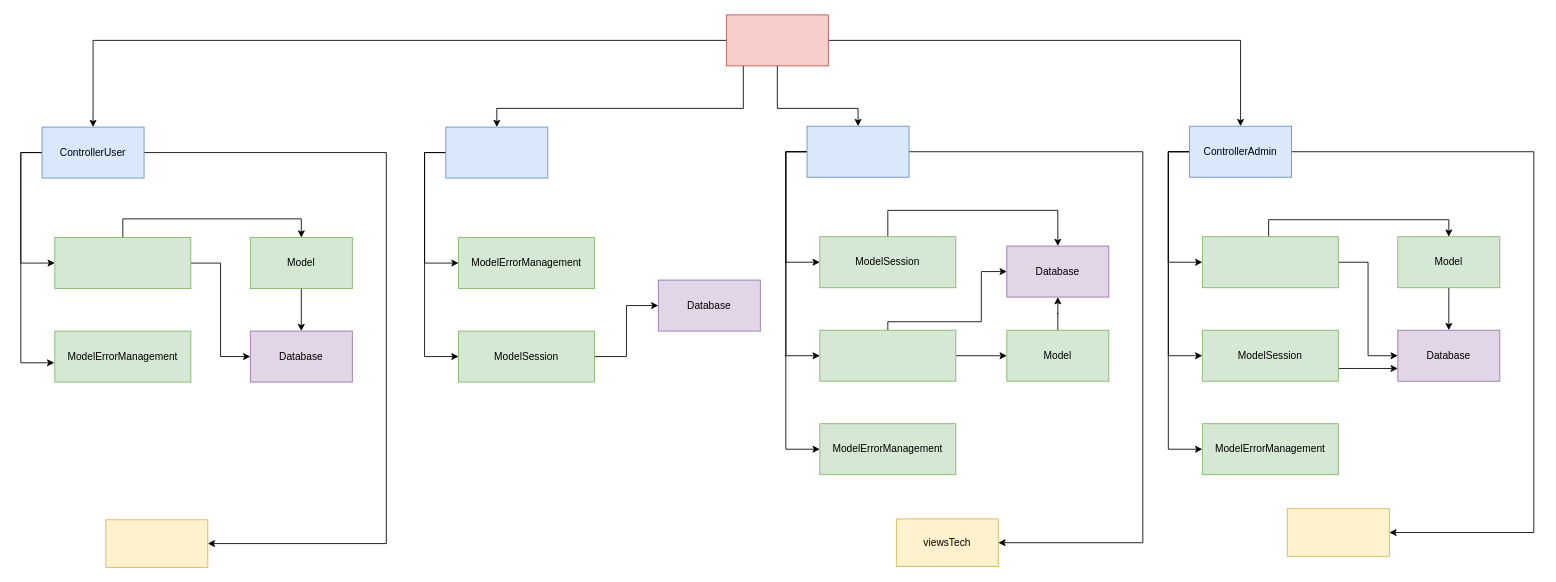
Image size: 1556x582. Some labels were removed from this diagram. The centre of each missing label's shape, as x and y in pixels:
ControllerSession: the point at 496,152
ControllerTech: the point at 857,151
index.php (routeur): the point at 776,40
ModelAdmin: the point at 1269,262
ModelTech: the point at 887,355
ModelUser: the point at 122,263
viewsAdmin: the point at 1337,532
viewsUser: the point at 156,543
